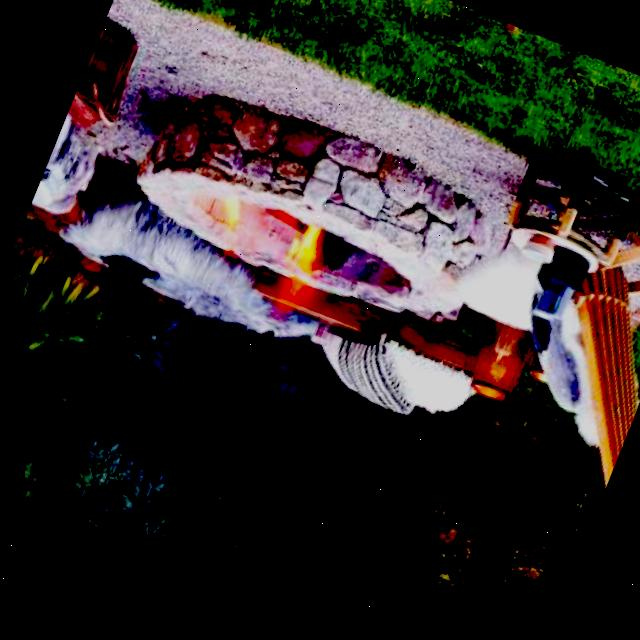Fire: (255, 219, 337, 323), (198, 195, 256, 261)
